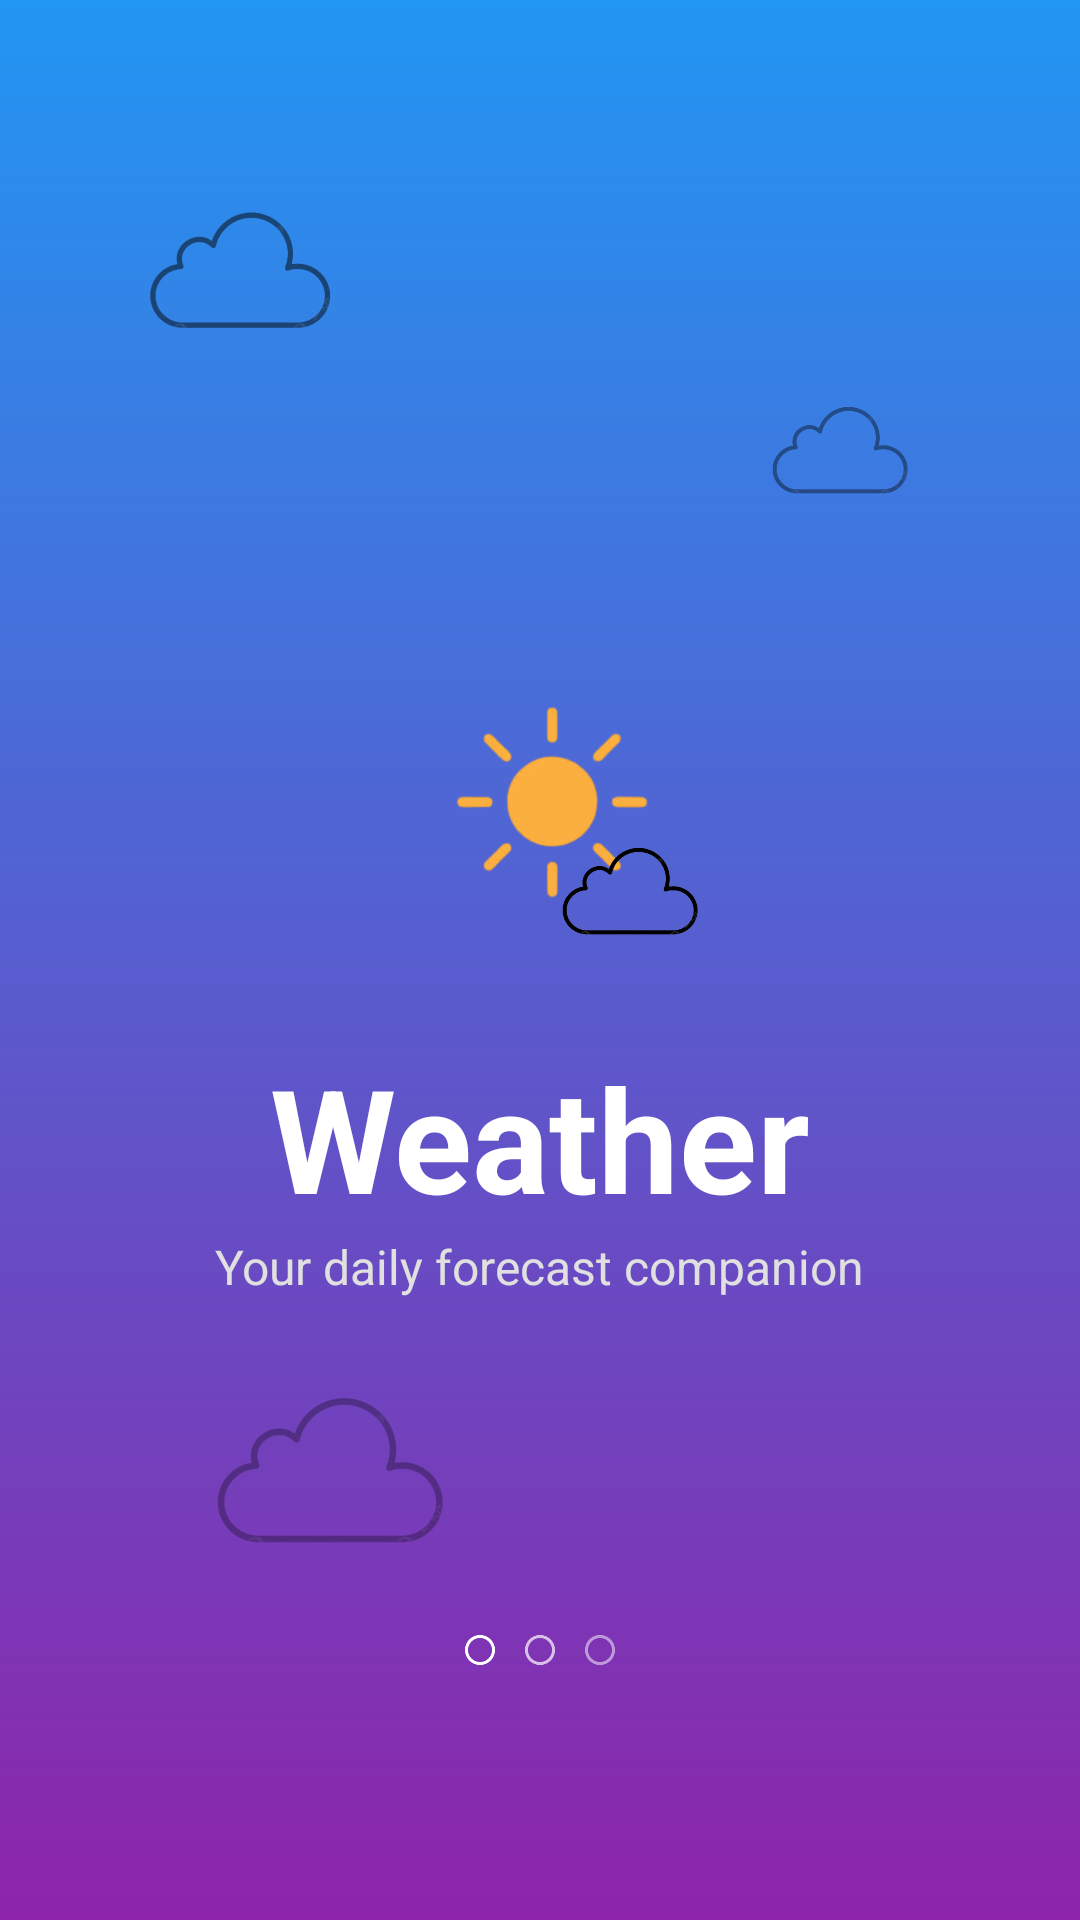

Screen size 1080 × 1920. Icon name, then its center in pixels as (x,y):
animated sun icon: (552,802)
